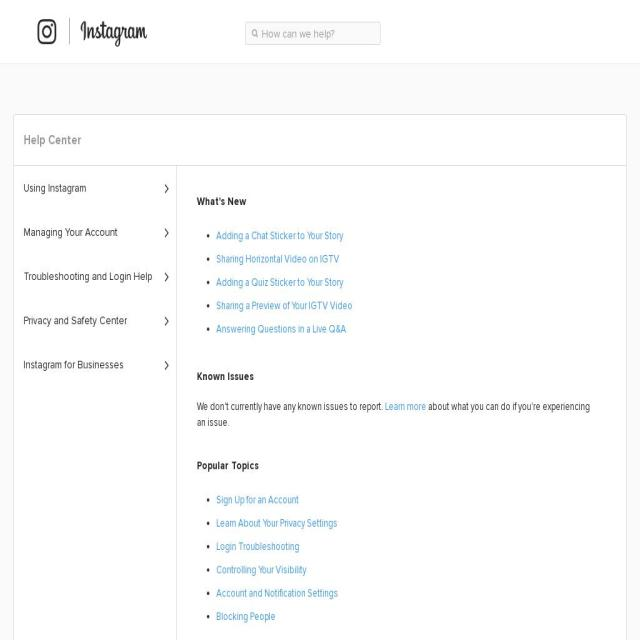button: (14, 342, 176, 387), (14, 166, 176, 210), (14, 210, 176, 254), (14, 254, 176, 298), (14, 298, 176, 342)
field: (246, 23, 380, 44)
heading: (197, 192, 597, 210), (38, 18, 148, 46), (197, 458, 259, 472), (197, 368, 254, 382)
image: (162, 182, 170, 194), (162, 226, 170, 238), (162, 270, 170, 282), (162, 315, 170, 326), (162, 359, 170, 370)
link: (216, 299, 353, 313), (216, 322, 347, 336), (216, 228, 344, 242), (216, 275, 344, 288), (216, 252, 340, 265), (216, 586, 339, 599), (216, 516, 338, 529), (216, 562, 307, 576), (216, 492, 300, 506), (216, 539, 300, 553), (216, 609, 276, 623), (385, 399, 426, 413)
text: (197, 399, 590, 428), (197, 399, 385, 413), (24, 270, 152, 282), (24, 314, 127, 327), (24, 358, 124, 371), (23, 226, 118, 238), (24, 132, 81, 148), (24, 182, 86, 194)
